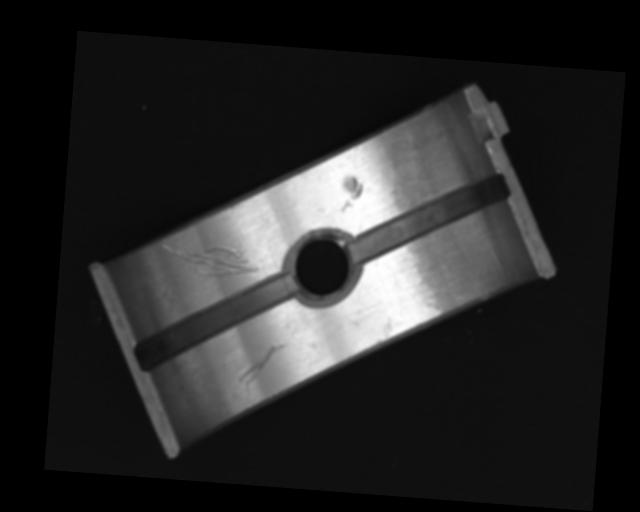bruise: (339, 174, 364, 216)
gap: (134, 263, 295, 380), (352, 163, 509, 275)
hole: (281, 228, 362, 305)
nick: (158, 240, 260, 281), (237, 338, 283, 387)
